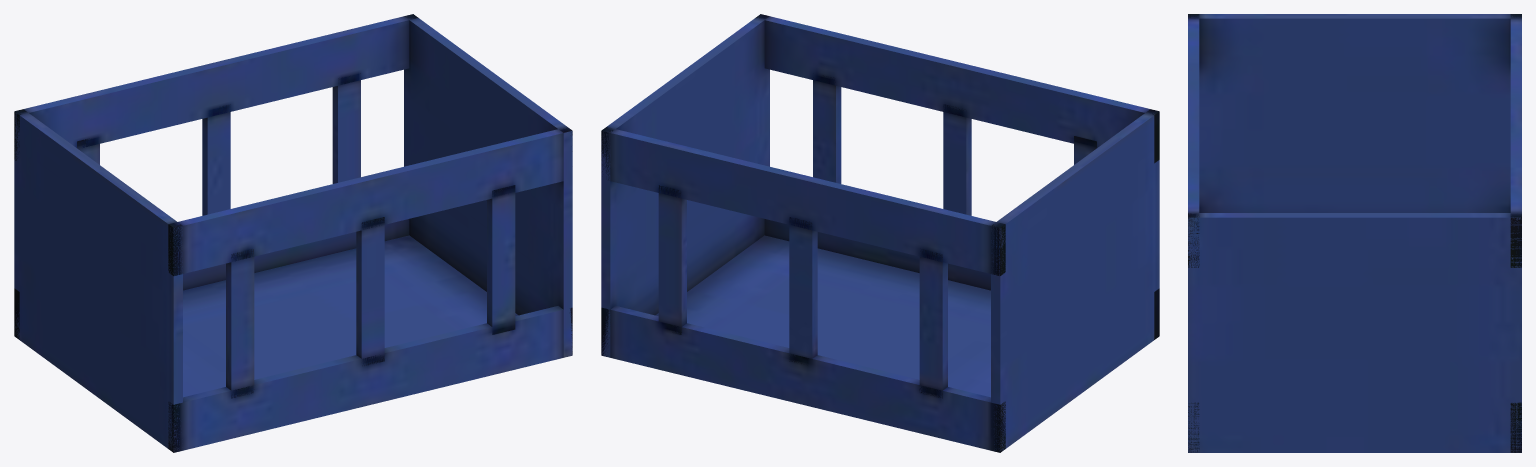
Rendered from crate_plastic_lod1_web.glb.
The picture shows the model from 3 angles, left to right: view 1: azimuth 30°, elevation 25°; view 2: azimuth 150°, elevation 25°; view 3: azimuth 270°, elevation 25°; orthographic projection. The views are drawn at different scales.
Parts seen in each view (by area): view 1: CratePlastic_Body; view 2: CratePlastic_Body; view 3: CratePlastic_Body.
Boxes of the visible parts, <box> form: CratePlastic_Body: <box>14,14,572,452</box>; CratePlastic_Body: <box>601,14,1159,452</box>; CratePlastic_Body: <box>1188,14,1521,452</box>.
Size of the model in its own units: 0.52 by 0.28 by 0.36.
Materials: 1 (1 with a texture image).
